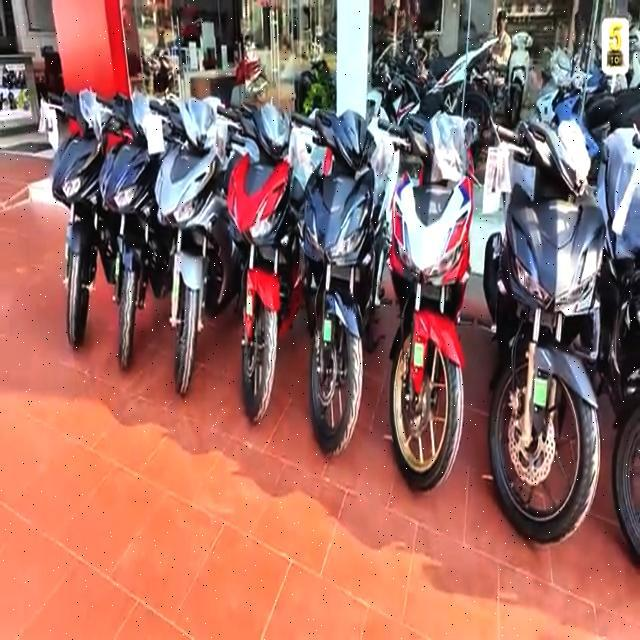motorcycle: (488, 106, 631, 548), (383, 95, 482, 502), (289, 100, 382, 462), (216, 97, 296, 435), (152, 91, 227, 406), (100, 90, 161, 370)
